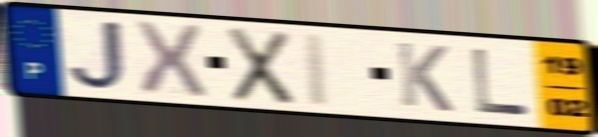I: (301, 30, 333, 110)
J: (65, 18, 130, 92)
K: (393, 39, 456, 115)
L: (469, 46, 532, 119)
X: (130, 18, 211, 99), (224, 24, 296, 108)
